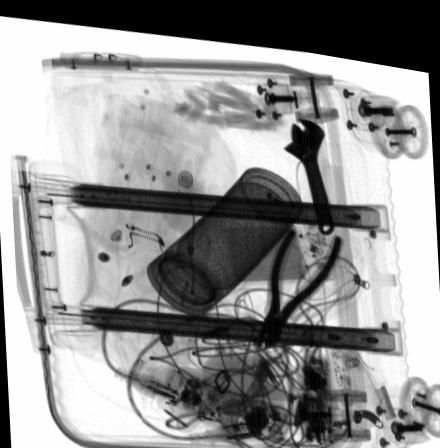Pliers: (254, 216, 345, 338)
Powerbank: (213, 214, 338, 275)
Wrench: (282, 107, 334, 224)
